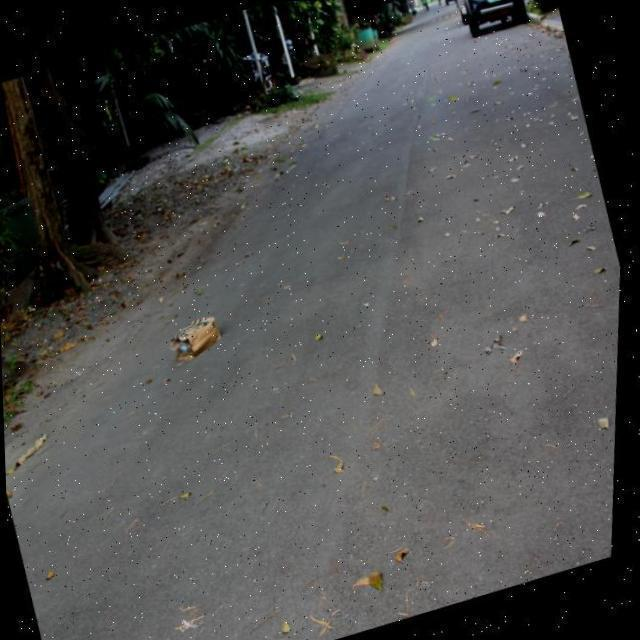Paper_Bag: (166, 312, 231, 366)
